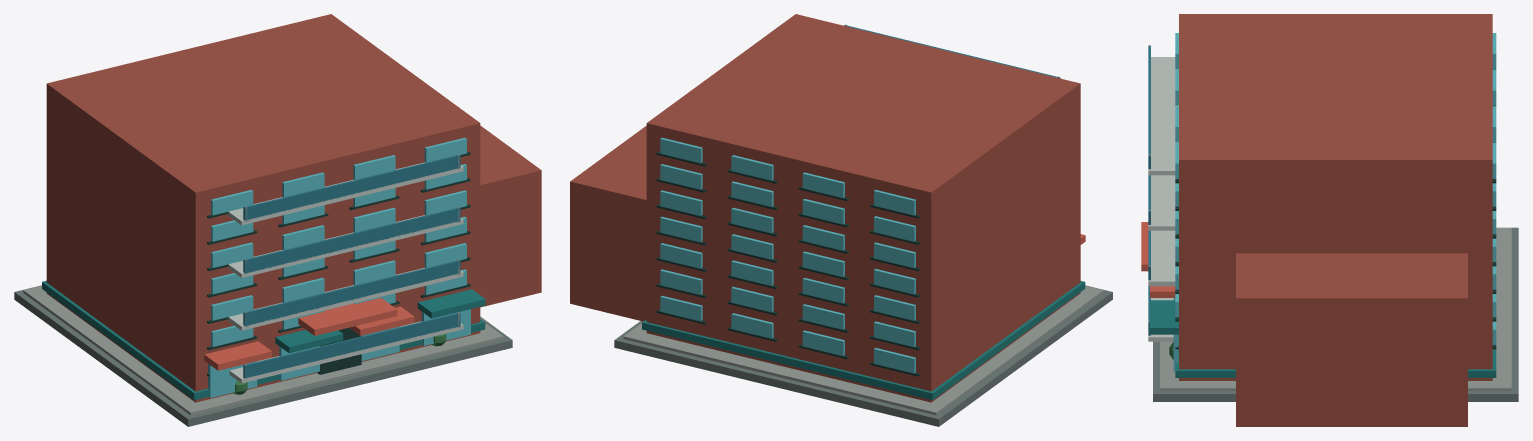
File: mixed_use_lv2.glb
3 renders of one model, left to right at view 1: azimuth 30°, elevation 25°; view 2: azimuth 150°, elevation 25°; view 3: azimuth 270°, elevation 25°, orthographic. The views are drawn at different scales.
Parts seen in each view (by area): view 1: rough, glossy; view 2: rough, glossy; view 3: rough, glossy.
Part boxes in pixels (x1=…): rough: x1=14, y1=14, x2=541, y2=426; glossy: x1=208, y1=137, x2=470, y2=397; rough: x1=570, y1=14, x2=1112, y2=426; glossy: x1=660, y1=25, x2=1060, y2=373; rough: x1=1141, y1=14, x2=1518, y2=426; glossy: x1=1148, y1=33, x2=1496, y2=371.
Bounding box in the file's own units: 11.87 × 6.36 × 9.39.
